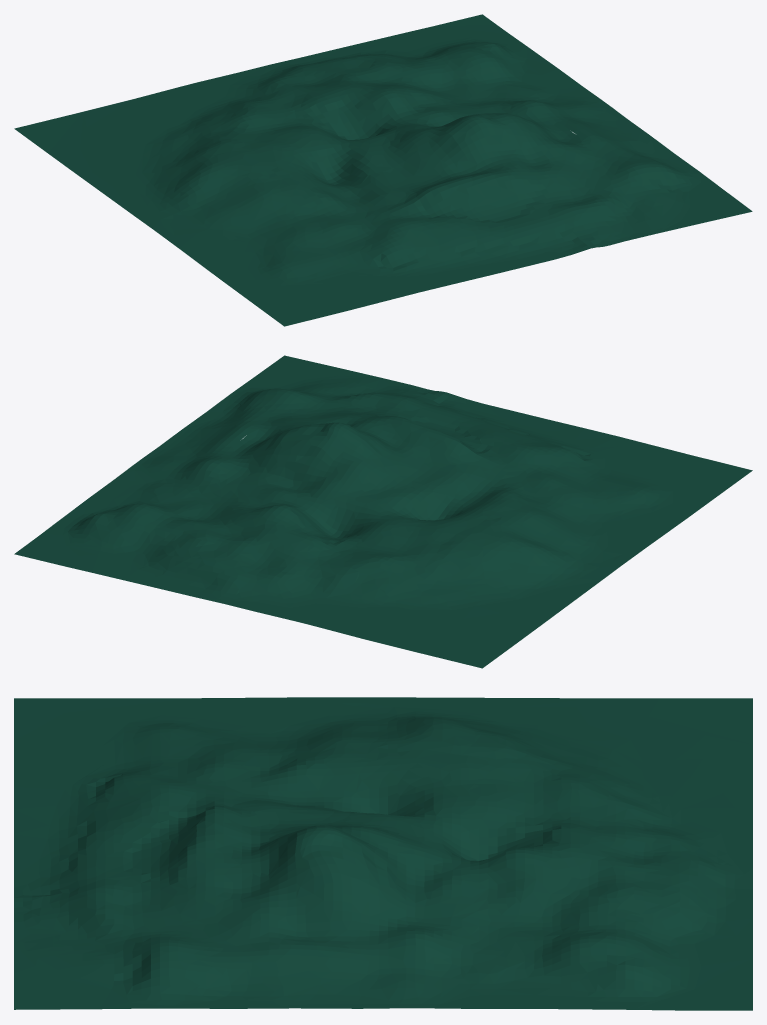
The model's file is Island5.fbx.
The picture shows the model from 3 angles, top to bottom: view 1: azimuth 30°, elevation 25°; view 2: azimuth 150°, elevation 25°; view 3: azimuth 270°, elevation 25°; orthographic projection. The views are drawn at different scales.
Visible parts, largest first — view 1: Plane; view 2: Plane; view 3: Plane.
Part boxes in pixels (x1,y1,x2,y2): Plane: (14, 14, 752, 326); Plane: (14, 355, 752, 668); Plane: (14, 697, 752, 1010).
Size of the model in its own units: 32000 by 3425 by 32000.
